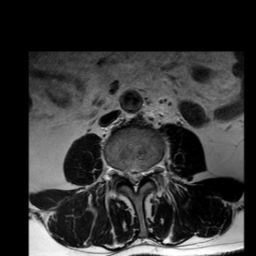CCS_normal: (131, 164, 138, 198)
LFS_normal: (145, 157, 152, 181)
LLS_normal: (138, 163, 145, 187)
RFS_stenosis: (116, 159, 123, 183)
RLS_stenosis: (123, 163, 131, 187)
